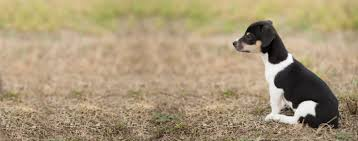dog_sitting: (233, 19, 340, 131)
